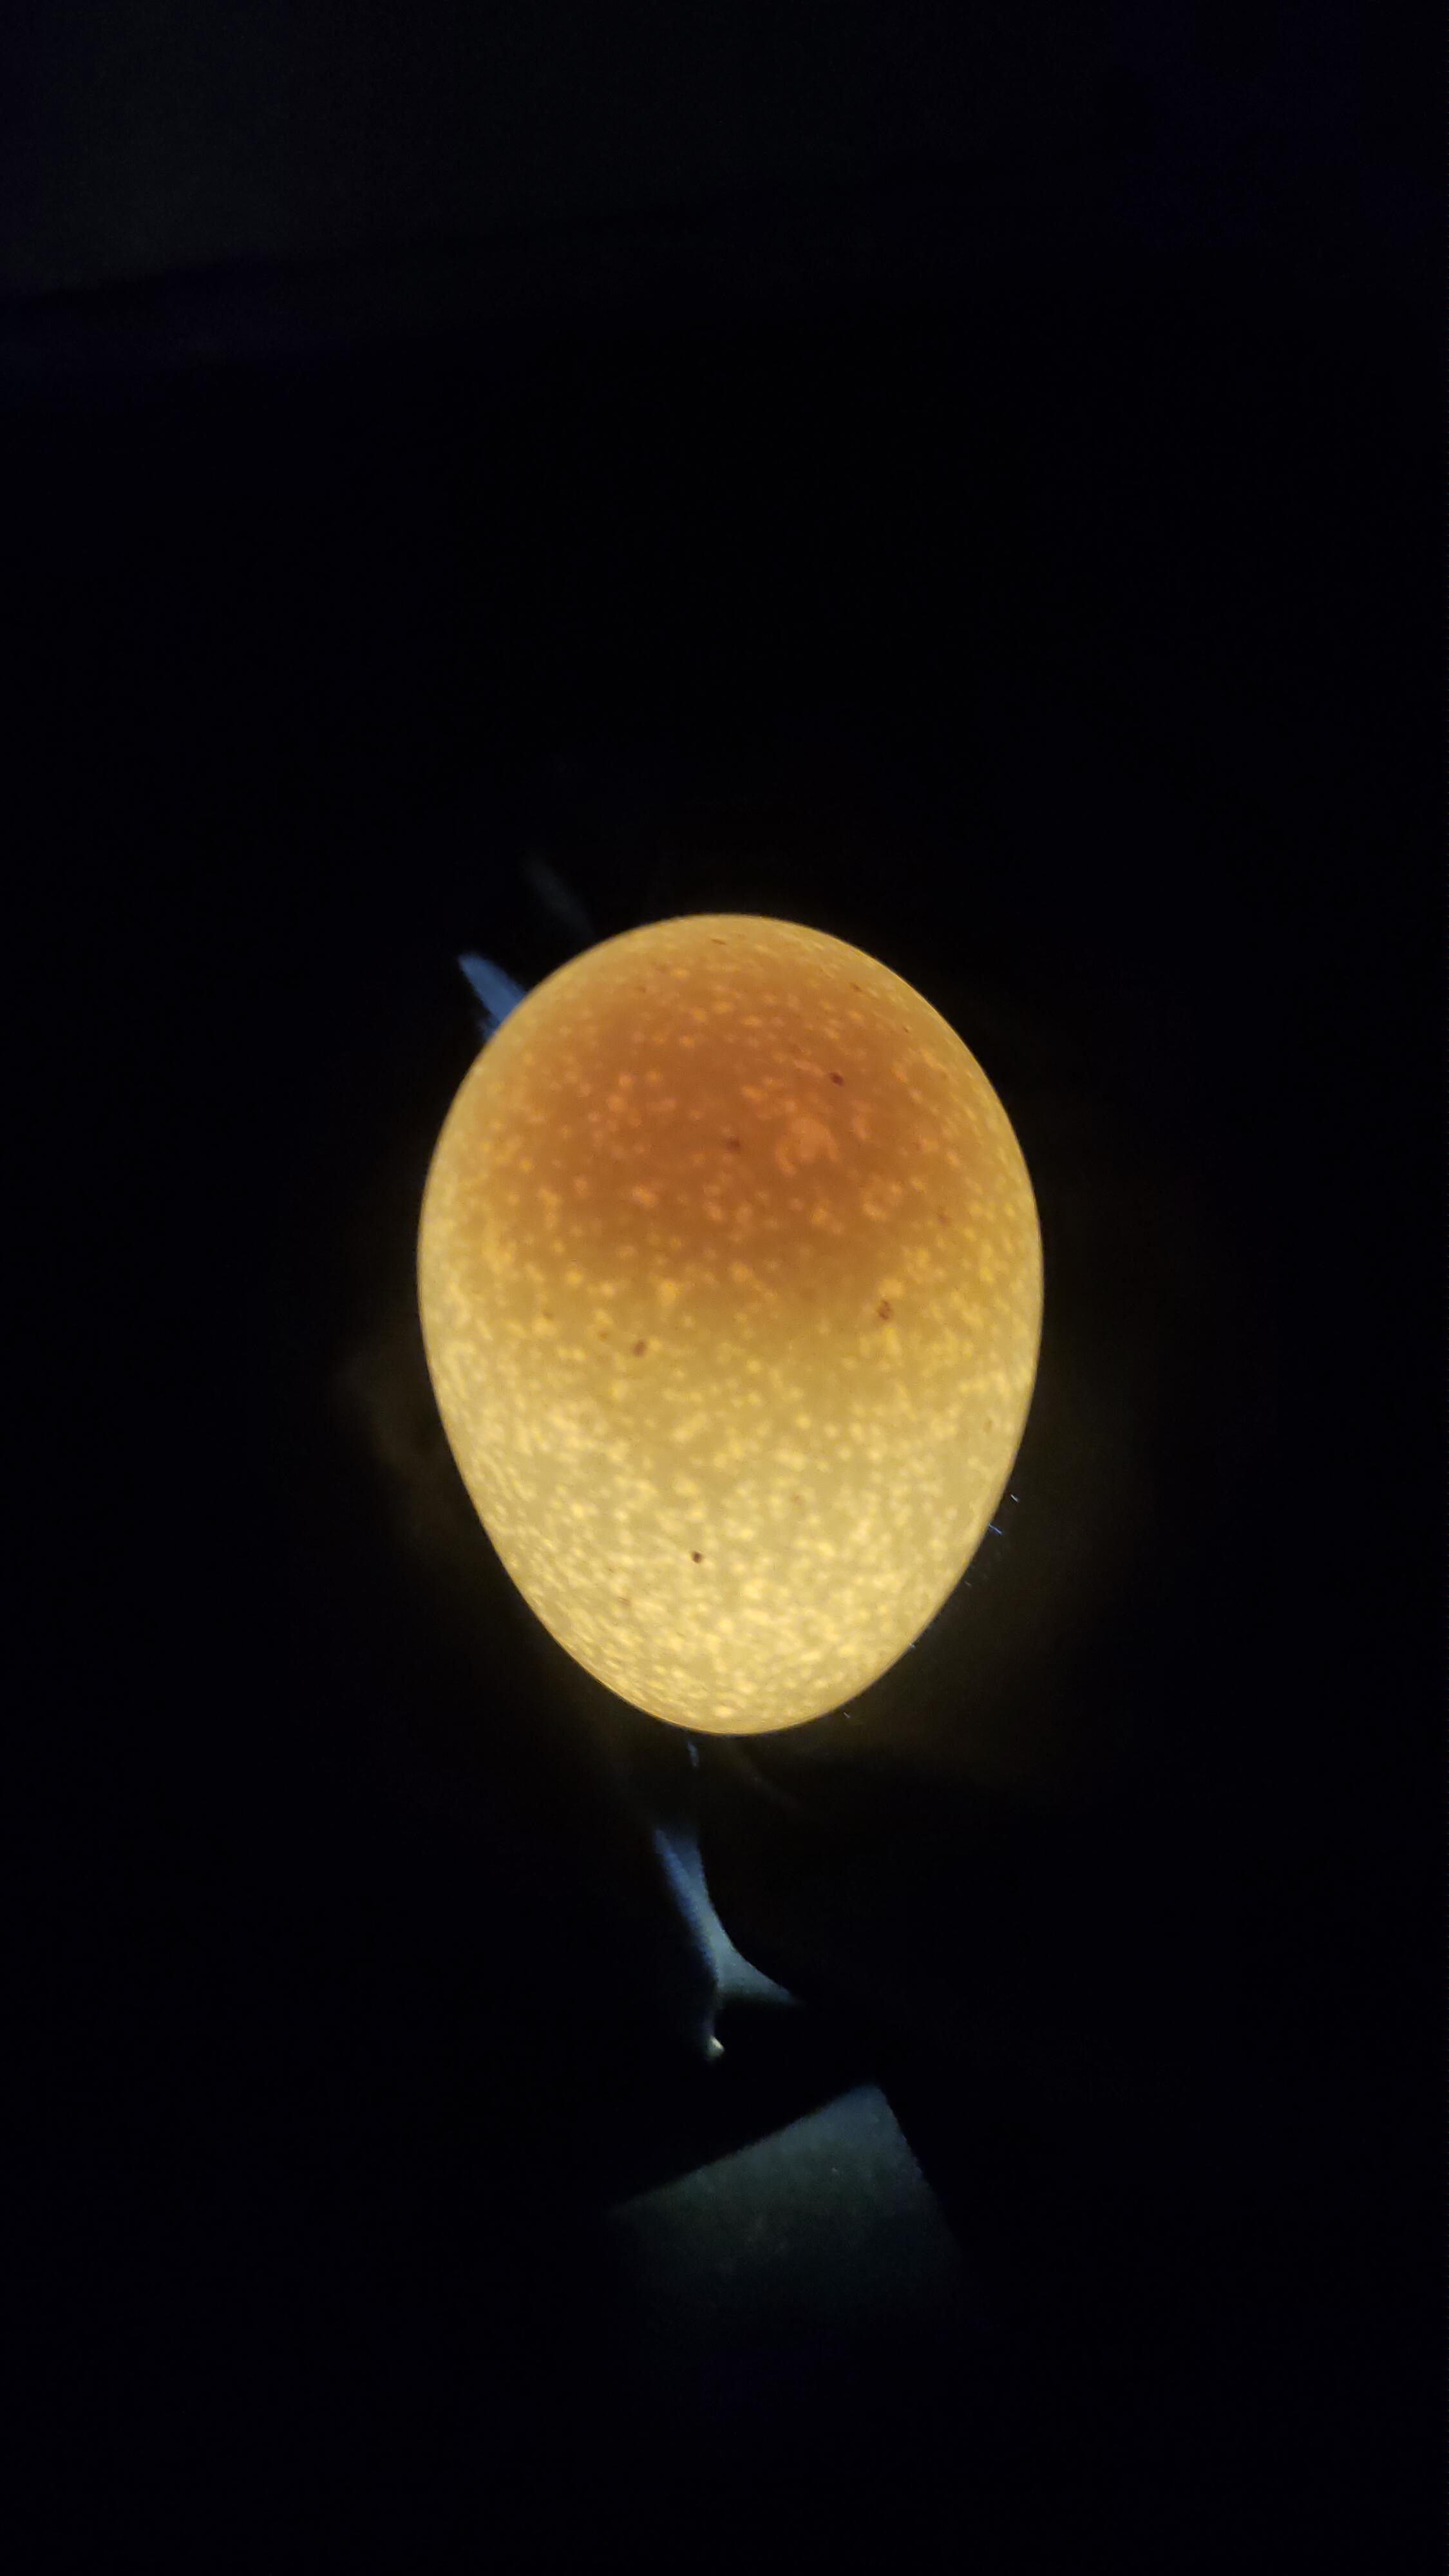Inedible: (386, 863, 1083, 1790)
